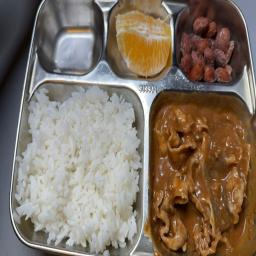100_beef: (150, 96, 252, 253)
100_nuts: (176, 17, 237, 87)
100_orange: (113, 7, 173, 79)
100_rice: (20, 87, 142, 253)
empty: (44, 4, 95, 73)
